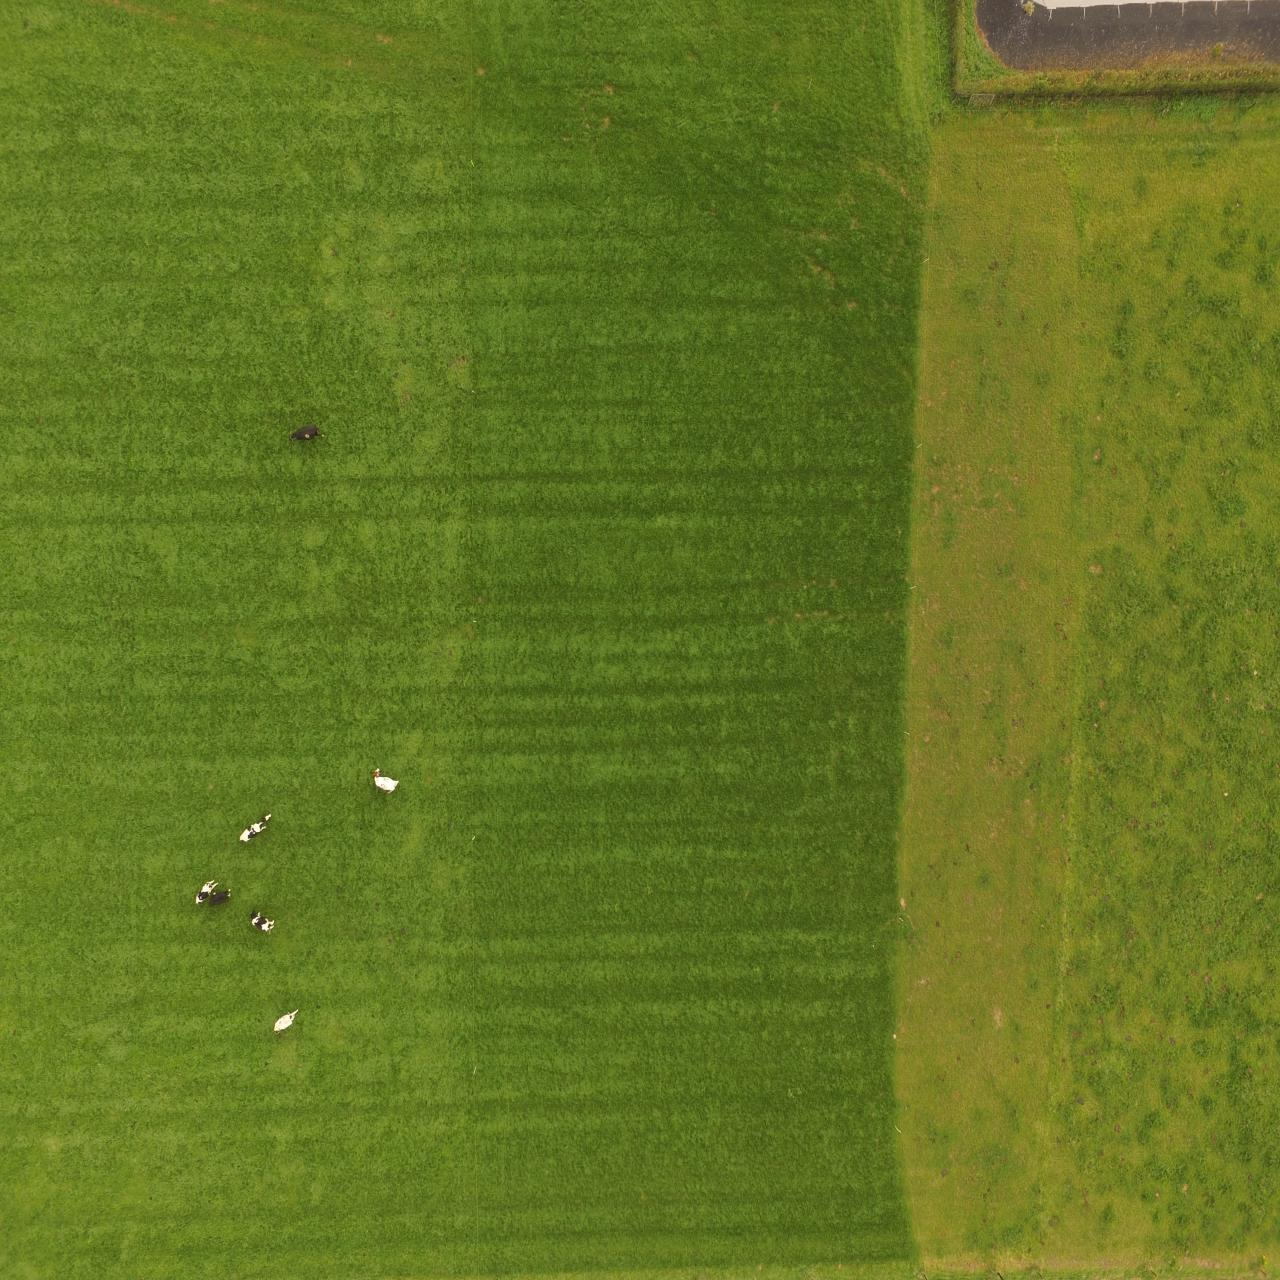cow: (238, 809, 273, 846), (374, 765, 402, 795), (186, 877, 218, 903), (285, 424, 324, 443), (271, 1008, 300, 1033), (250, 911, 277, 937), (212, 891, 237, 907)
